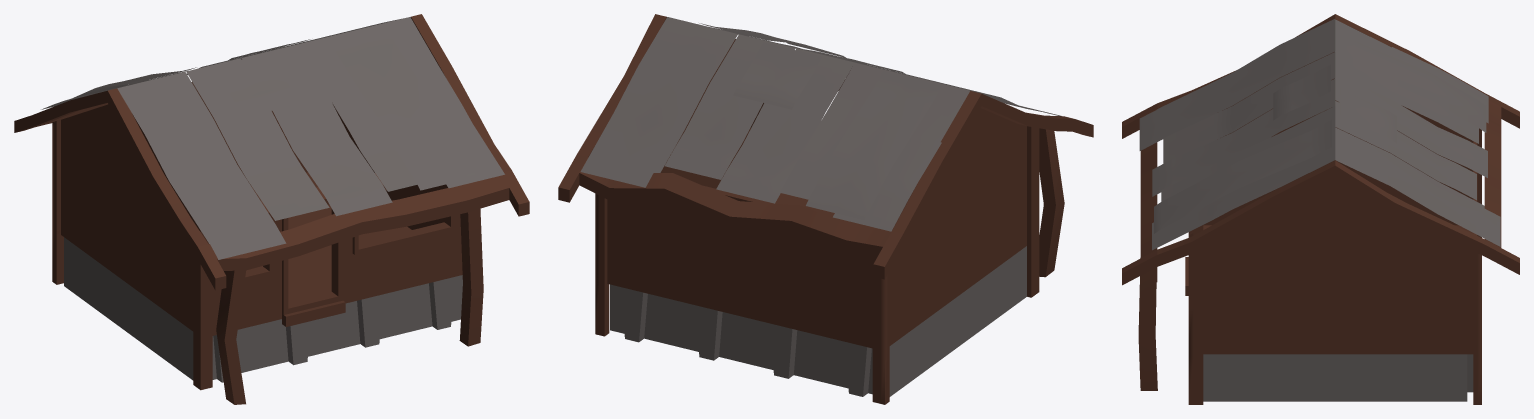
The model's file is Shack2.fbx.
3 views of the same model, side by side, from view 1: azimuth 30°, elevation 25°; view 2: azimuth 150°, elevation 25°; view 3: azimuth 270°, elevation 25° (orthographic). The views are drawn at different scales.
Visible parts, largest first — view 1: Roofplanks1, Cabin_walls, Shack_roofframe, Cabin_foundation, Roofplanks2; view 2: Cabin_walls, Roofplanks2, Cabin_foundation, Shack_roofframe, Roofplanks1; view 3: Cabin_walls, Roofplanks1, Roofplanks2, Shack_roofframe, Cabin_foundation.
Boxes of the visible parts, left/top/right/bottom form: Roofplanks1: left=117, top=17, right=504, bottom=259; Cabin_walls: left=52, top=87, right=462, bottom=390; Shack_roofframe: left=14, top=14, right=529, bottom=404; Cabin_foundation: left=64, top=237, right=462, bottom=382; Roofplanks2: left=41, top=18, right=401, bottom=109; Cabin_walls: left=595, top=48, right=1039, bottom=404; Roofplanks2: left=580, top=17, right=970, bottom=231; Cabin_foundation: left=610, top=246, right=1026, bottom=396; Shack_roofframe: left=558, top=14, right=1093, bottom=279; Roofplanks1: left=699, top=23, right=1061, bottom=116; Cabin_walls: left=1185, top=52, right=1481, bottom=404; Roofplanks1: left=1139, top=19, right=1335, bottom=250; Roofplanks2: left=1335, top=19, right=1500, bottom=246; Shack_roofframe: left=1122, top=14, right=1519, bottom=390; Cabin_foundation: left=1203, top=354, right=1473, bottom=401.
Bounding box in the file's own units: 5.97 × 4.57 × 6.61.
